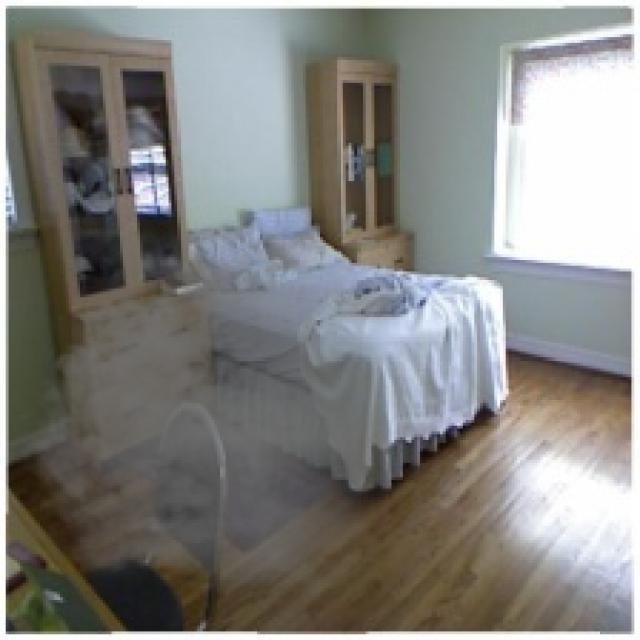Smoke: (9, 228, 388, 594)
